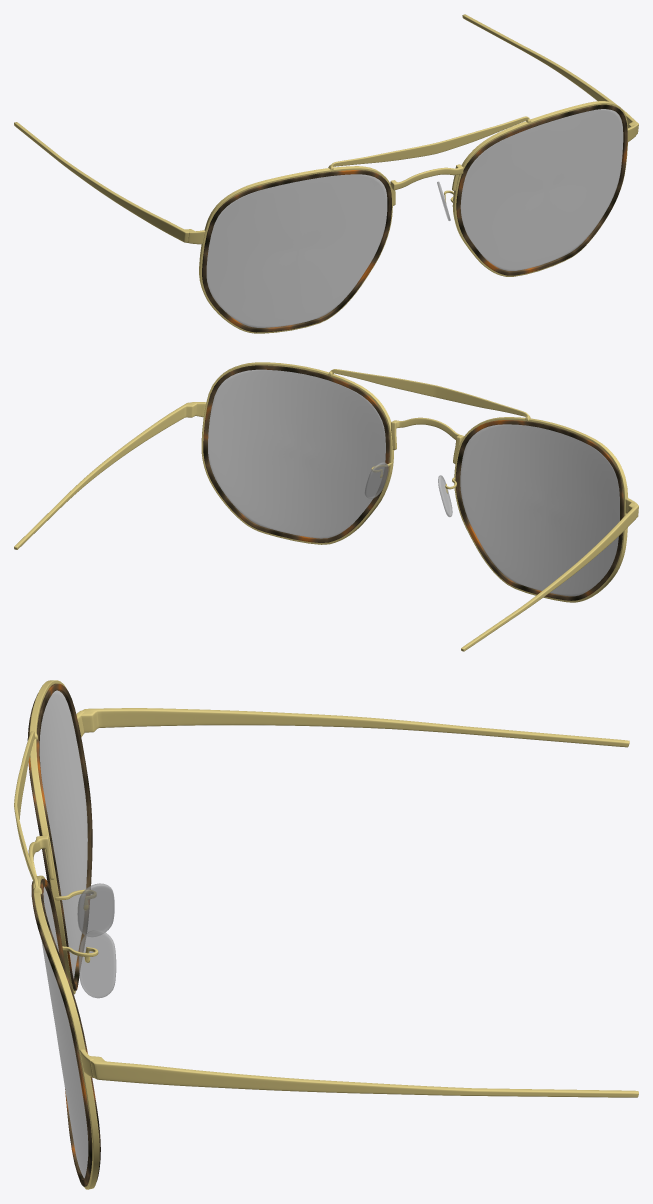
Rendered from MarshalgrauApp.glb.
3 renders of one model, top to bottom at view 1: azimuth 30°, elevation 25°; view 2: azimuth 150°, elevation 25°; view 3: azimuth 270°, elevation 25°, orthographic. The views are drawn at different scales.
Parts seen in each view (by area): view 1: Lentes.001, Armacao; view 2: Lentes.001, Armacao, Pontes.001; view 3: Armacao, Lentes.001, Pontes.001.
Boxes of the visible parts, x1,y1,x2,y2 form: Lentes.001: (206,109,623,327); Armacao: (14,14,638,333); Lentes.001: (208,369,619,596); Armacao: (14,362,638,651); Pontes.001: (364,462,452,517); Armacao: (14,680,638,1189); Lentes.001: (39,690,88,1178); Pontes.001: (77,883,116,998).
Size of the model in its own units: 0.1576 by 0.0547 by 0.1151.
3 materials, 3 textured.
